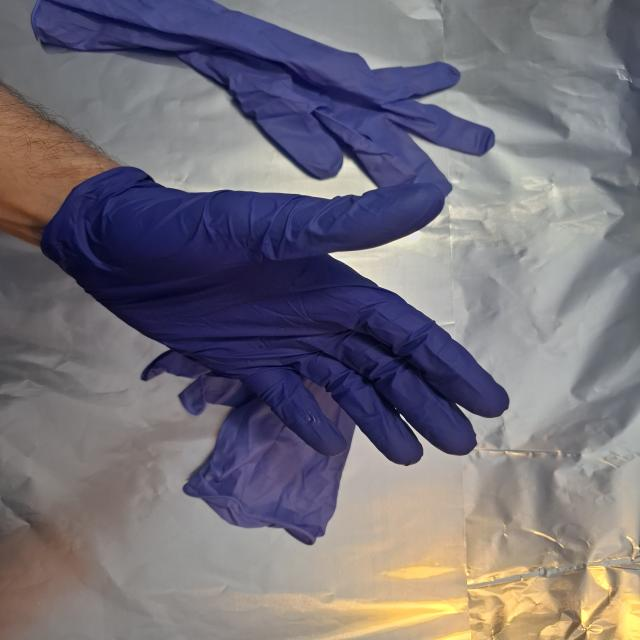glove_on: (51, 163, 516, 470)
